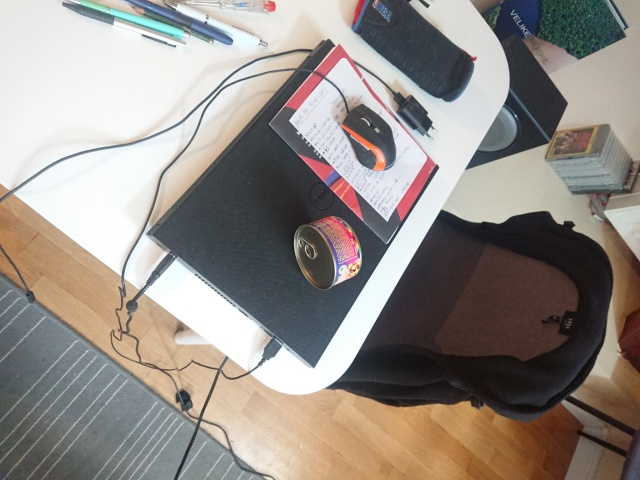Giana Tuna Salad Mexico 185g: (291, 213, 364, 292)
